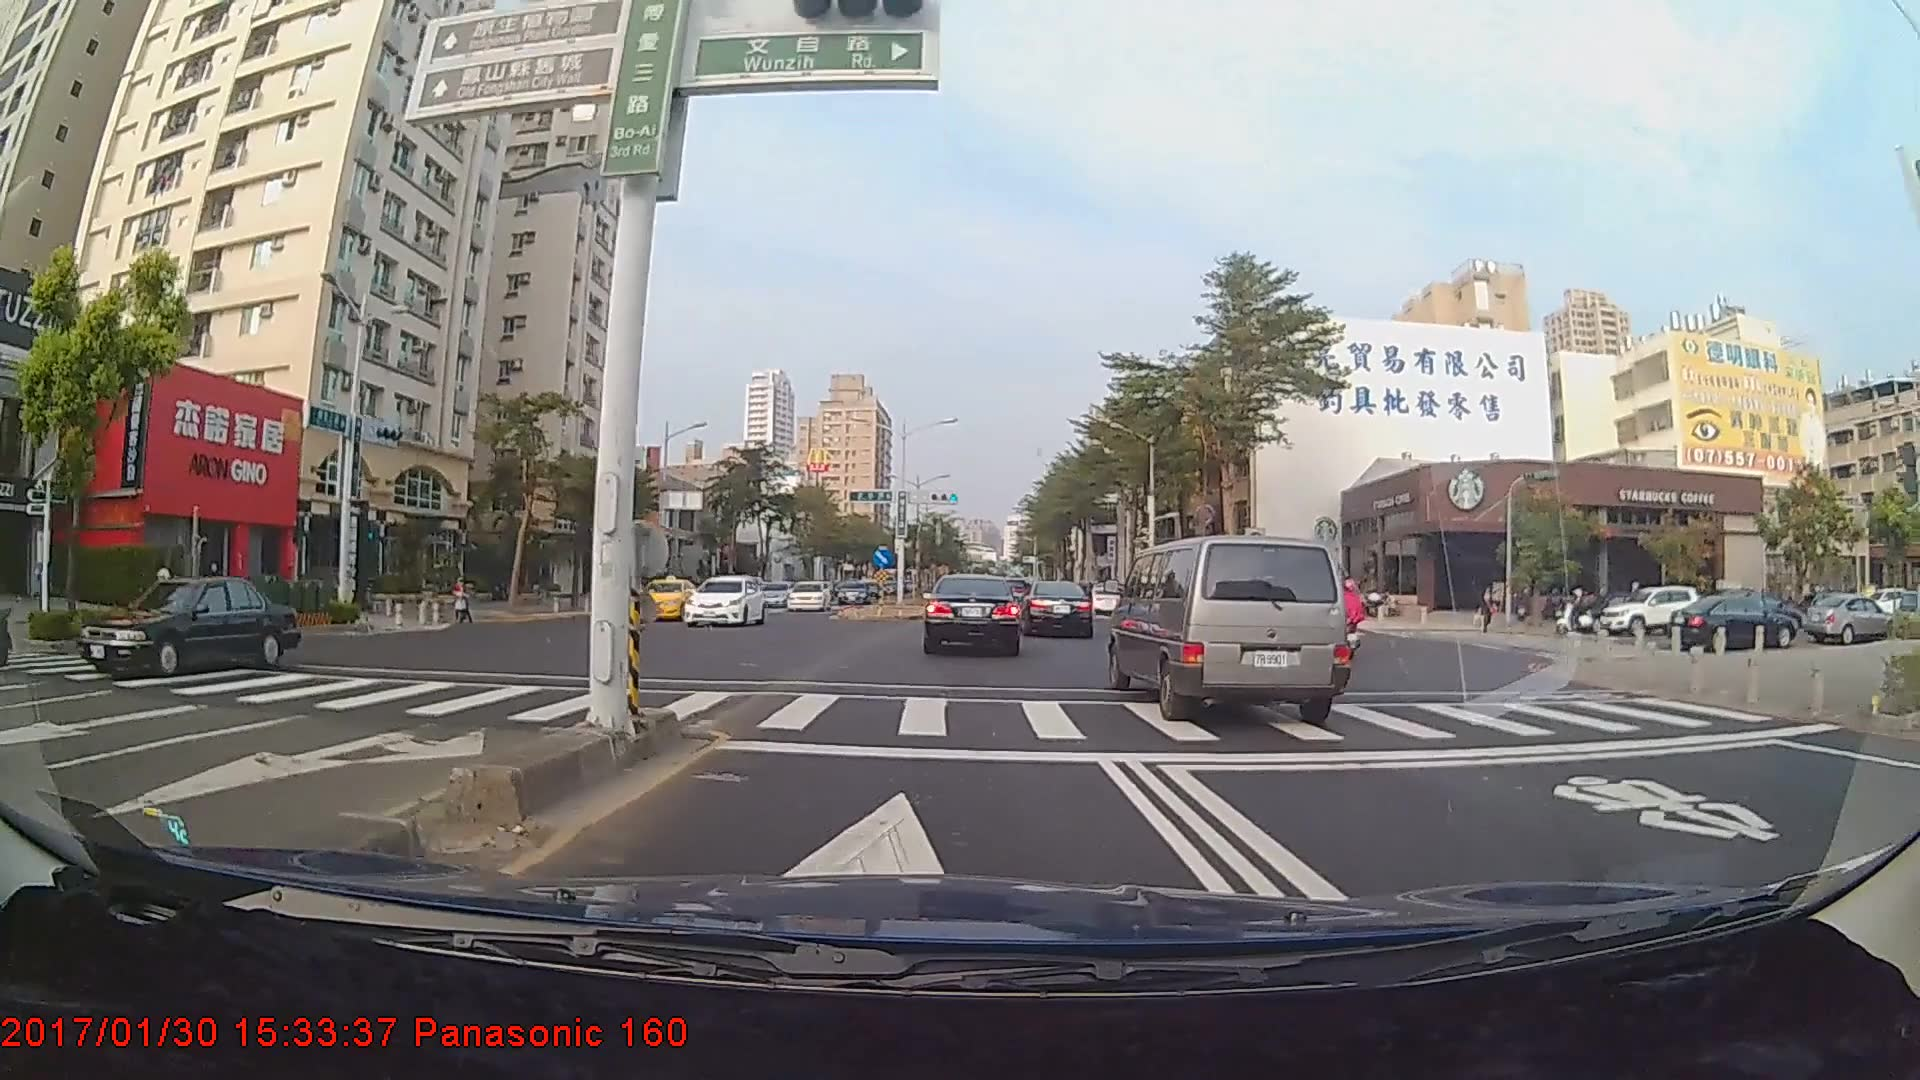rider: (1560, 584, 1603, 638)
vehicle: (1119, 531, 1351, 724), (73, 573, 299, 679), (922, 573, 1024, 656), (1676, 584, 1805, 648), (1598, 586, 1700, 635), (1802, 592, 1895, 646), (1018, 579, 1094, 640), (680, 573, 766, 625), (631, 576, 702, 622), (784, 578, 832, 610), (835, 578, 873, 604)
